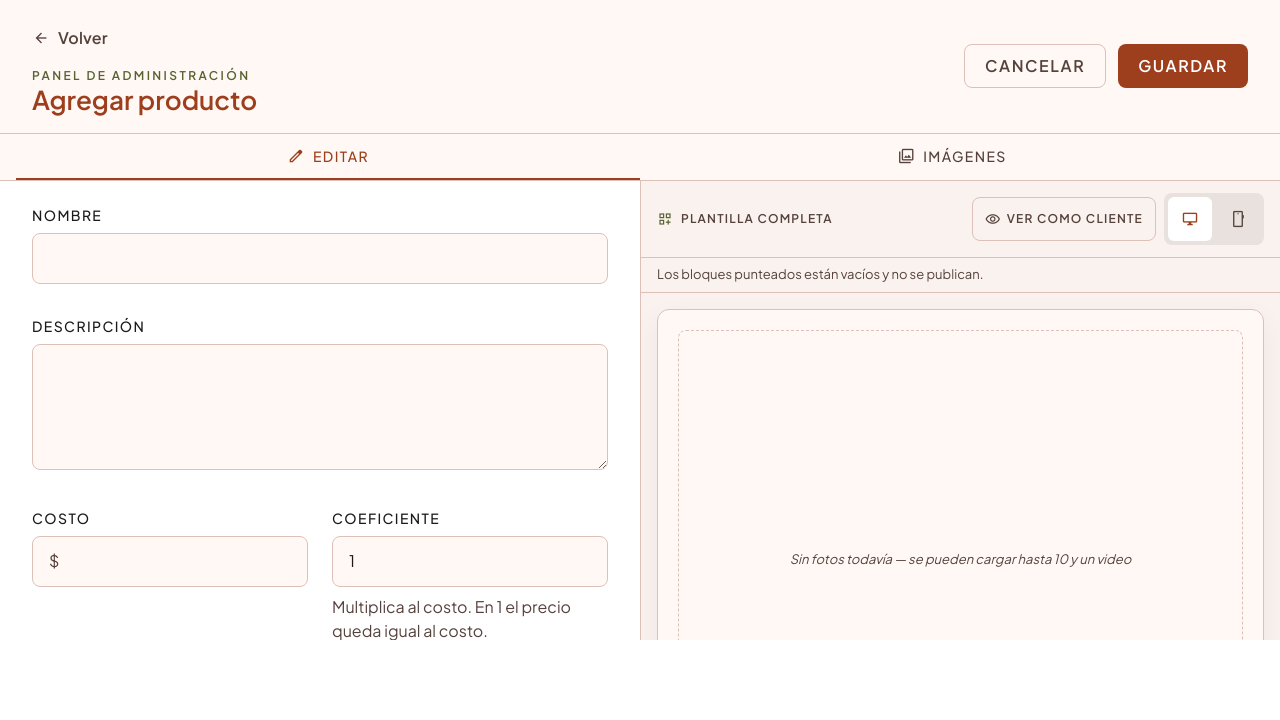
Scenario: AdminProductoForm — vista previa en vivo › permite pasar a la vista real, sin secciones vacías
Click the button "Ver como cliente" at (1064, 219), box [972, 197, 1156, 241]
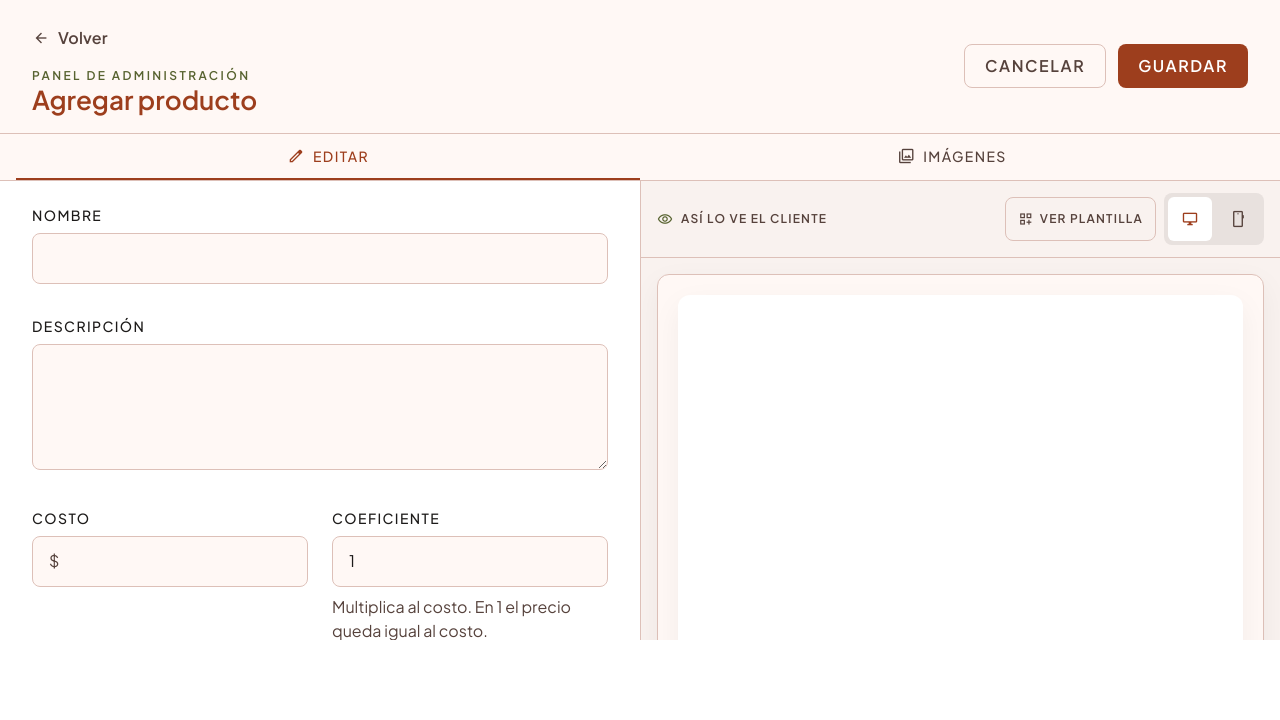
Check: no elements with test id "bloque-vacio" are shown
